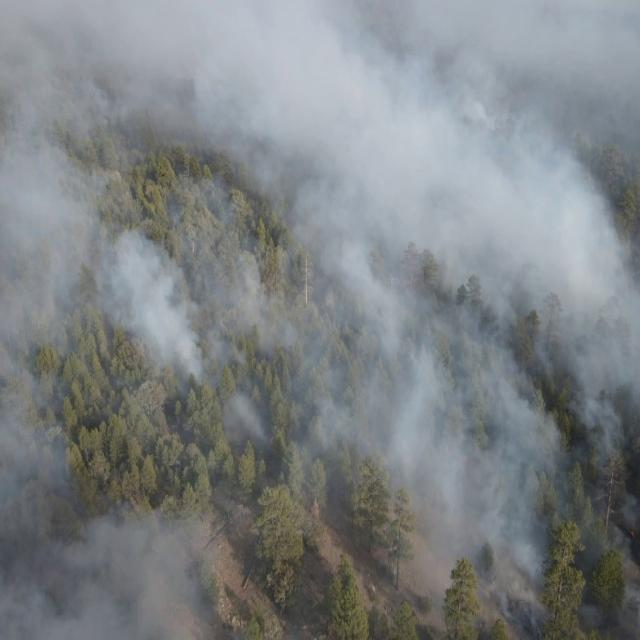fire: (60, 427, 71, 442), (628, 527, 636, 541)
smoke: (0, 0, 640, 640)
